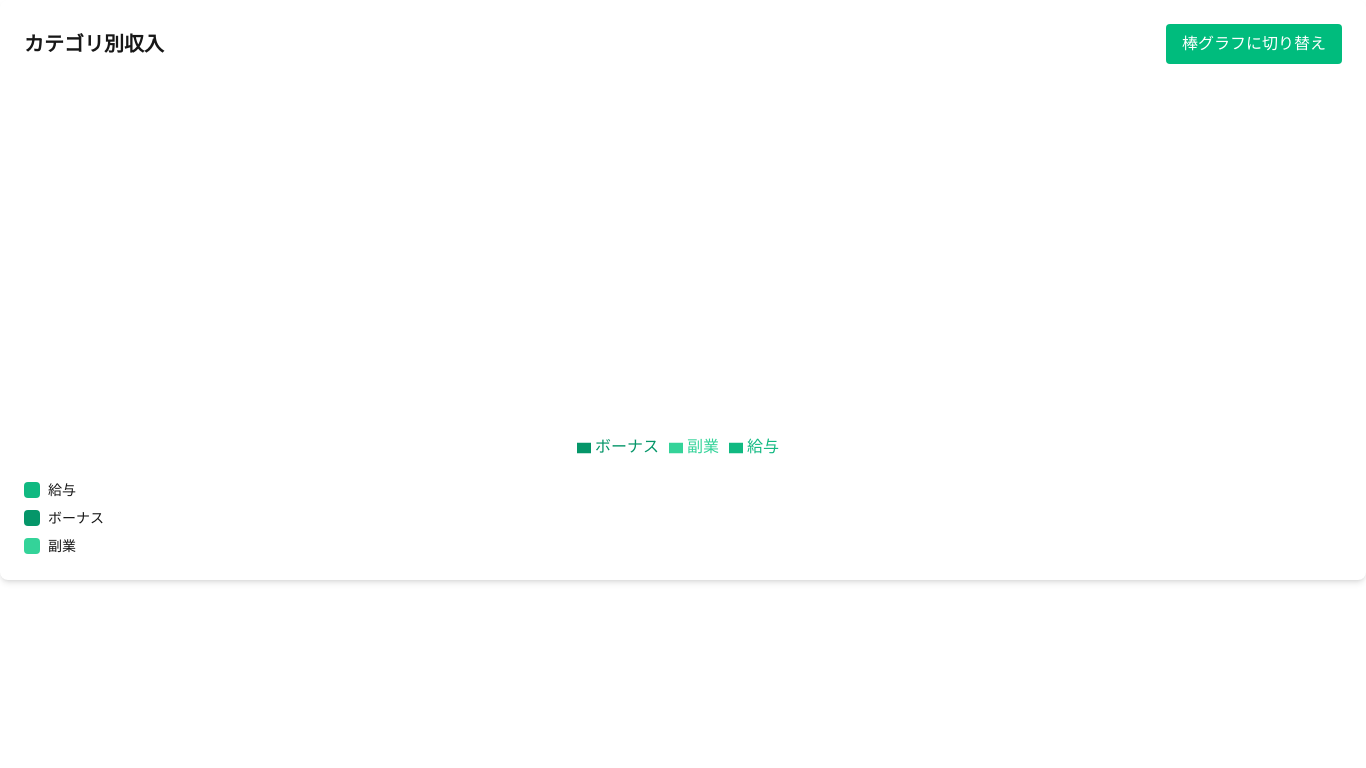
Test: IncomeCategoryChart › インタラクション › 凡例をクリックすると詳細が表示される
Note: 凡例アイテムをクリック
Click the button with test id "legend-item-101" at (50, 490), box [24,480,76,500]
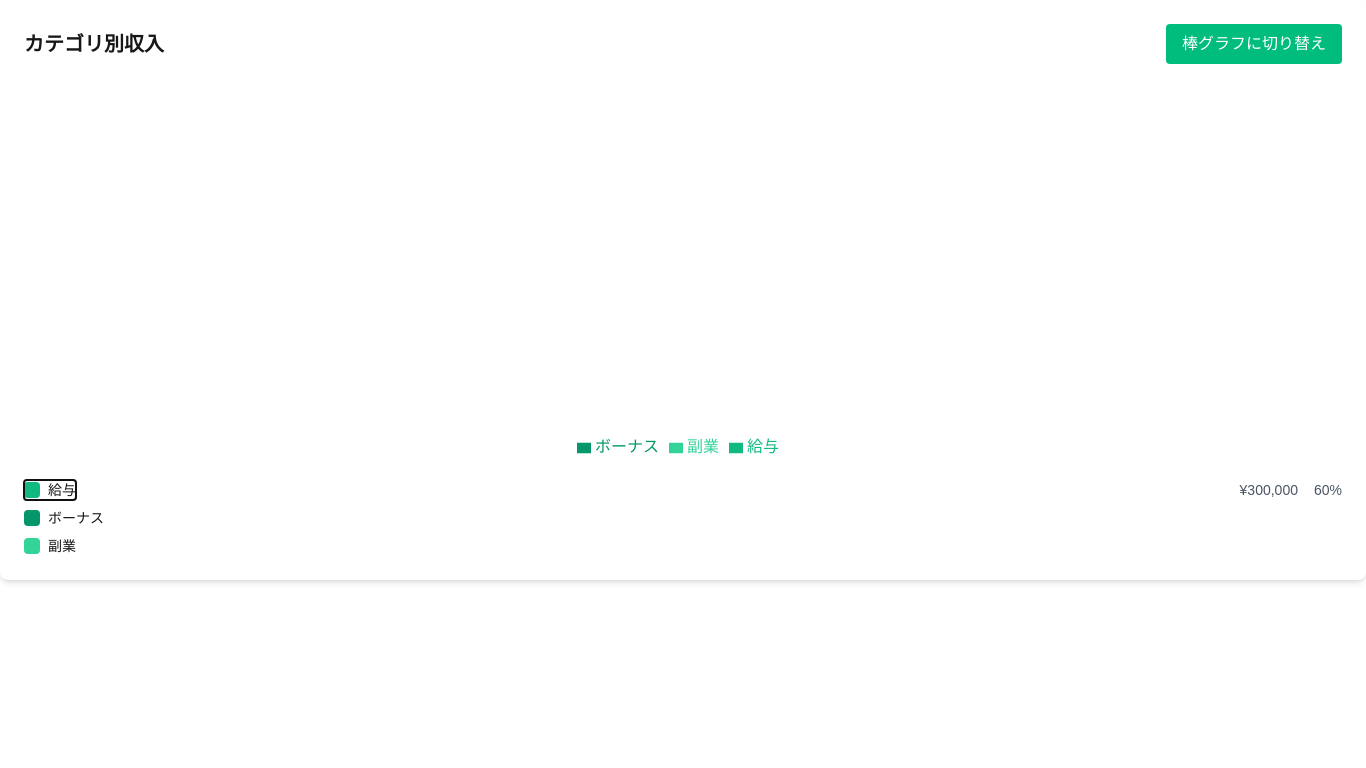
Result: the element with test id "category-detail-101" is shown at [1240,480,1342,500]
Result: the text "¥300,000" is shown at [1240,480,1298,500]
Result: the text "60%" is shown at [1314,480,1342,500]
